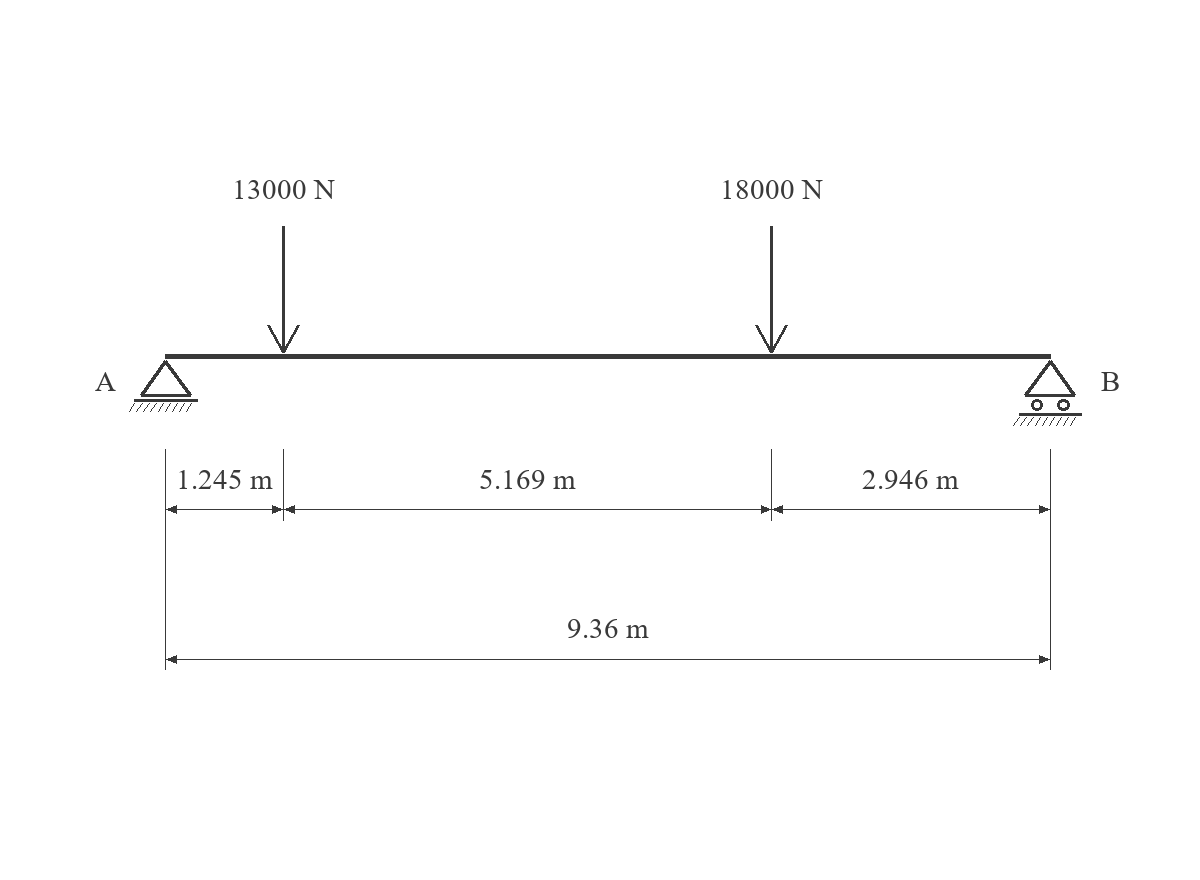pin_support: (129, 360, 198, 412)
point_load: (267, 226, 300, 353), (755, 226, 788, 353)
roller_support: (1013, 360, 1082, 426)
